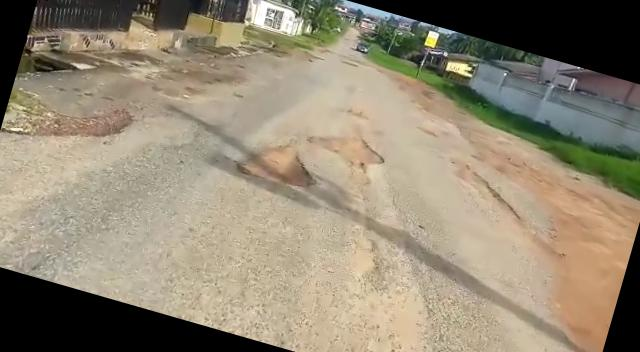pothole: (0, 69, 145, 174), (220, 131, 332, 203), (304, 124, 392, 178)
